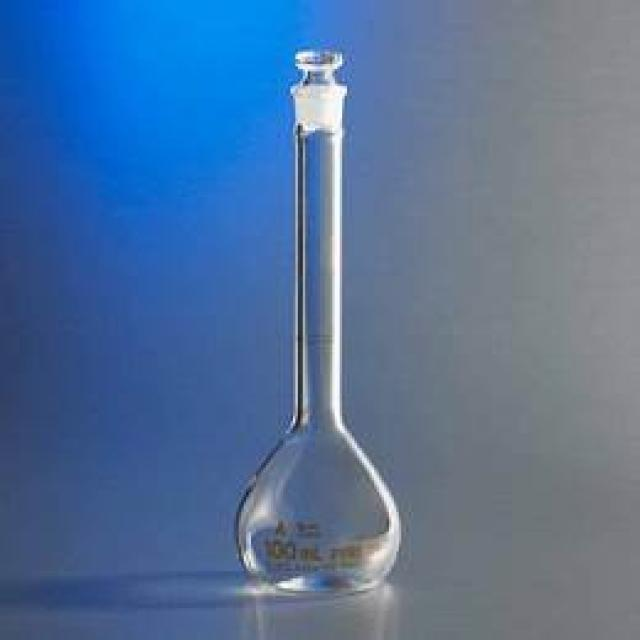Volumetric flask: (242, 20, 405, 604)
